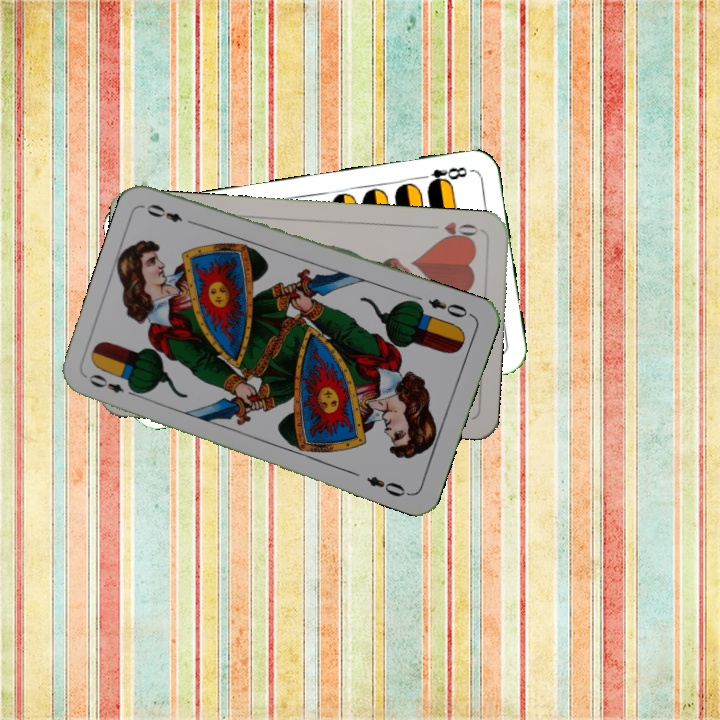E8: (414, 163, 470, 190)
EO: (84, 370, 141, 400), (424, 294, 475, 321)
HO: (424, 218, 481, 244)
